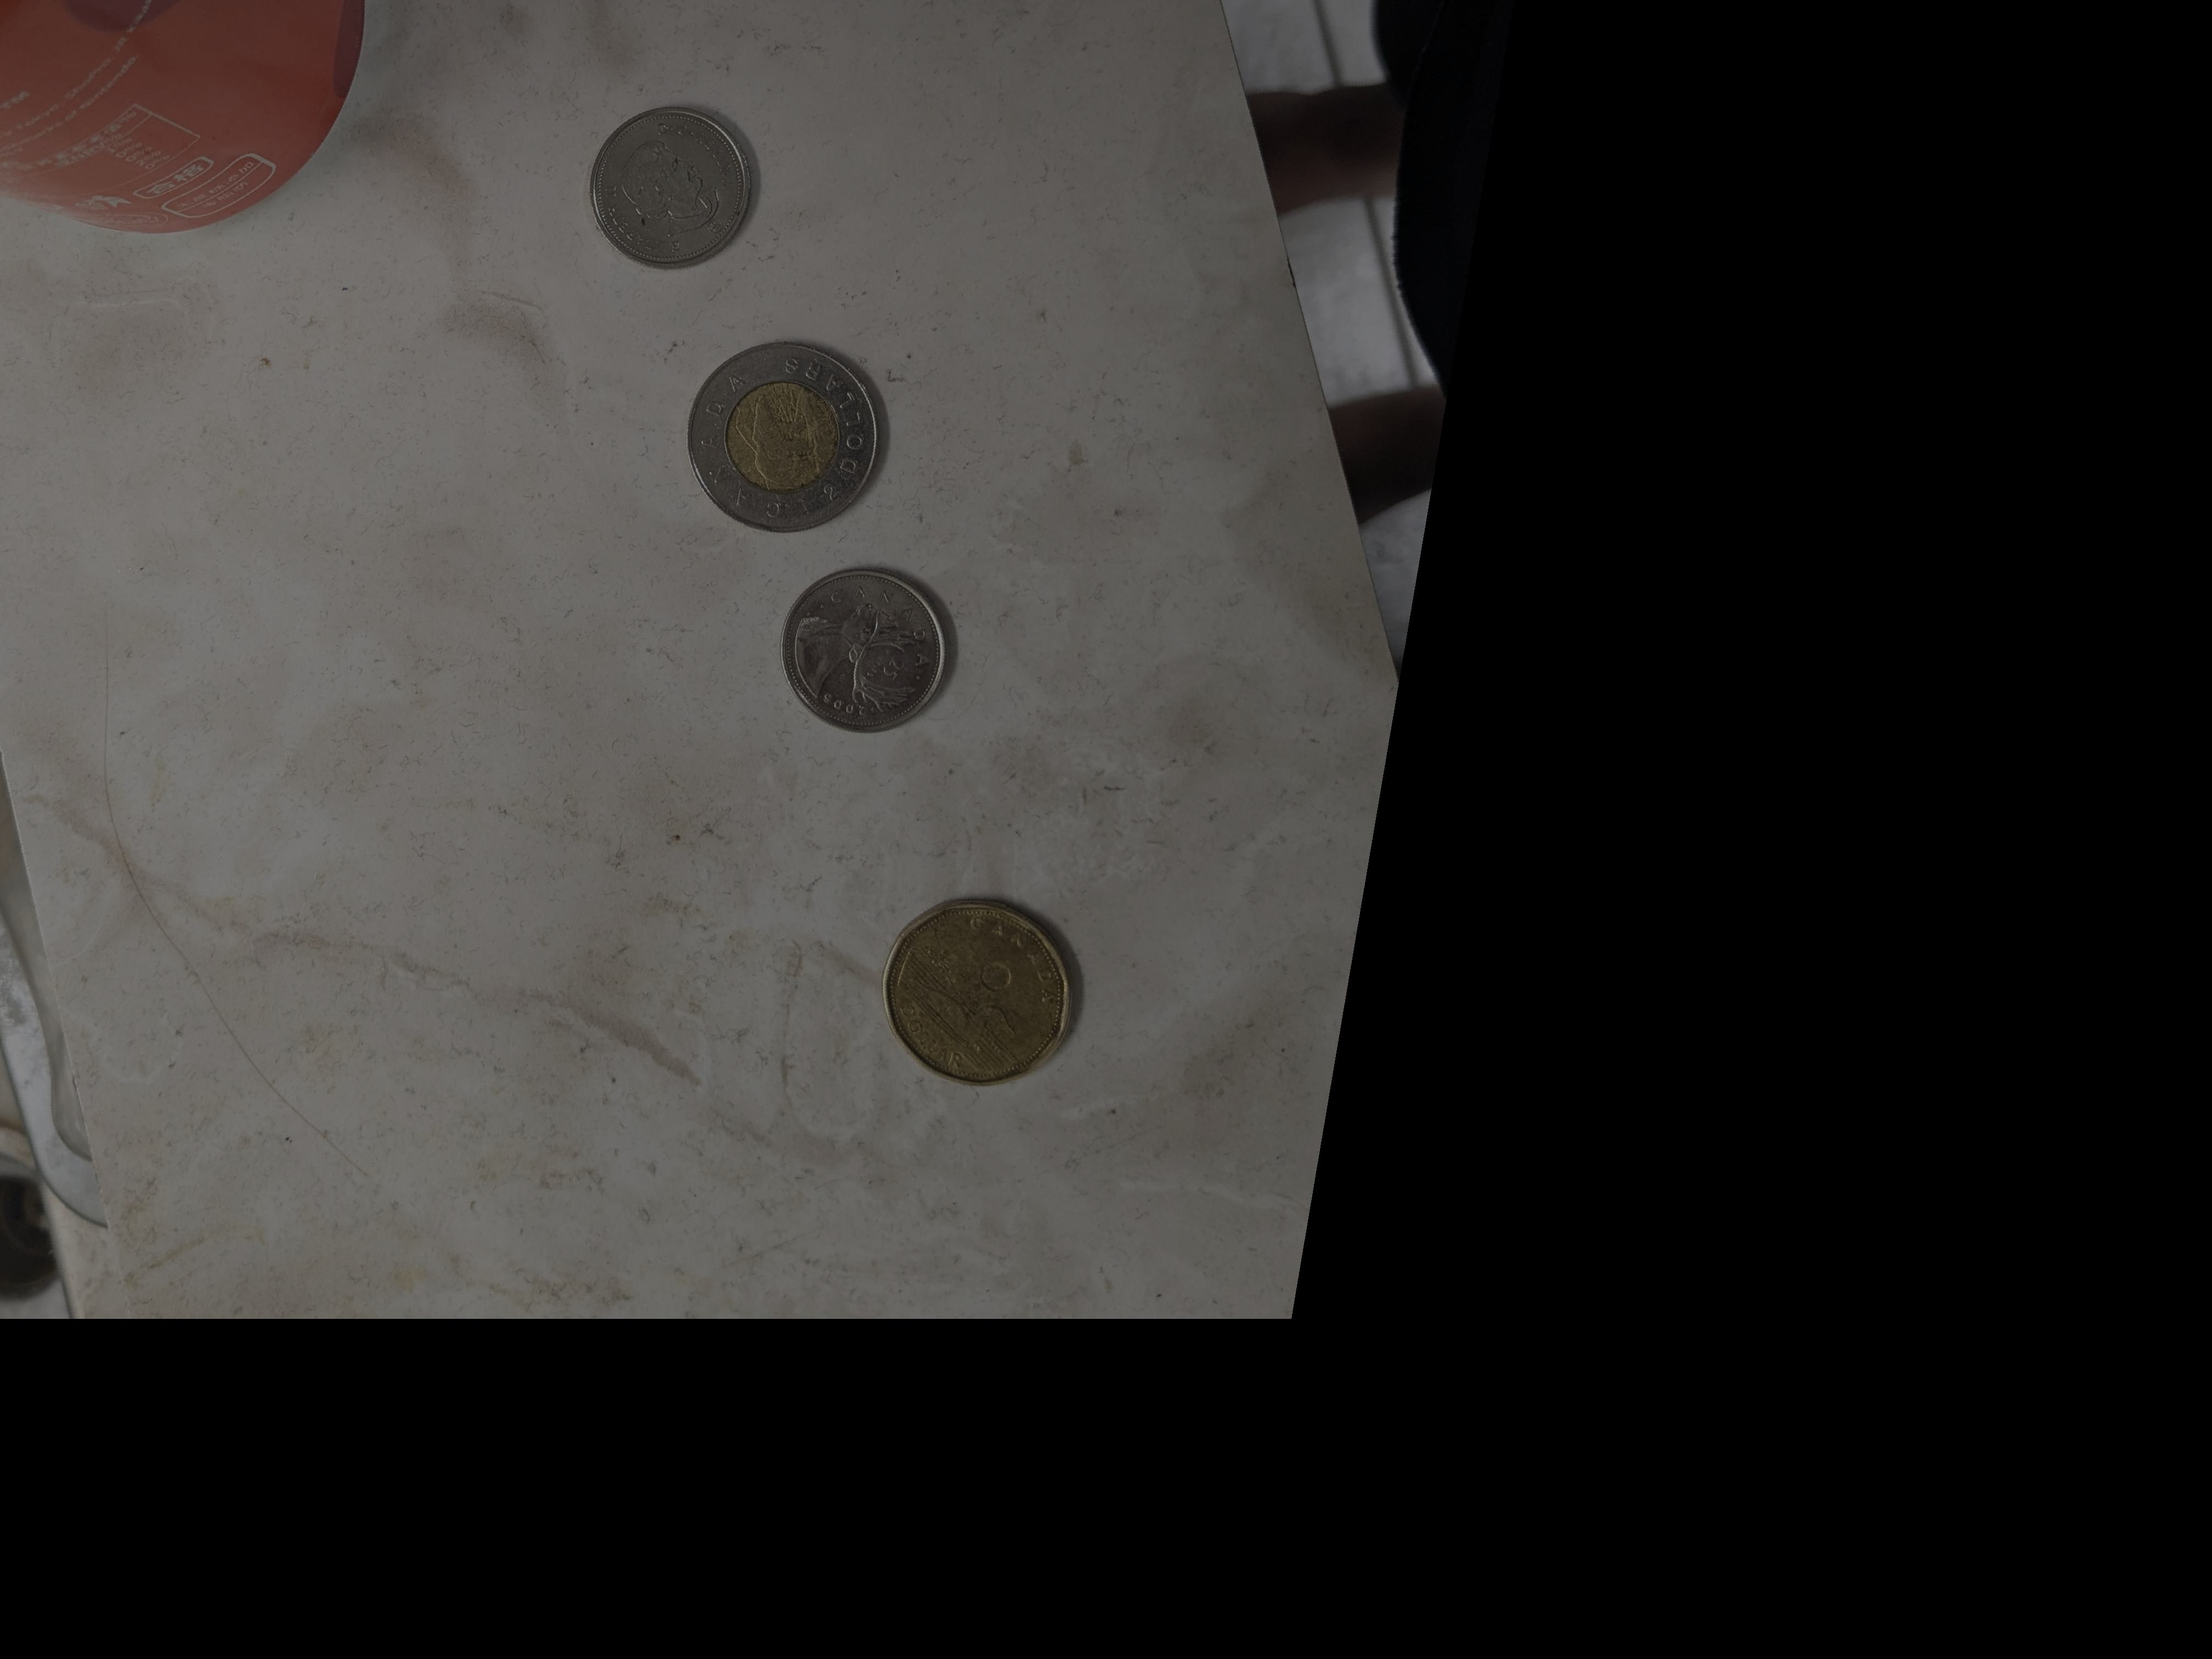loonie: (887, 897, 1082, 1086)
quarter: (590, 96, 761, 274), (773, 568, 949, 737)
toonie: (686, 340, 885, 530)
